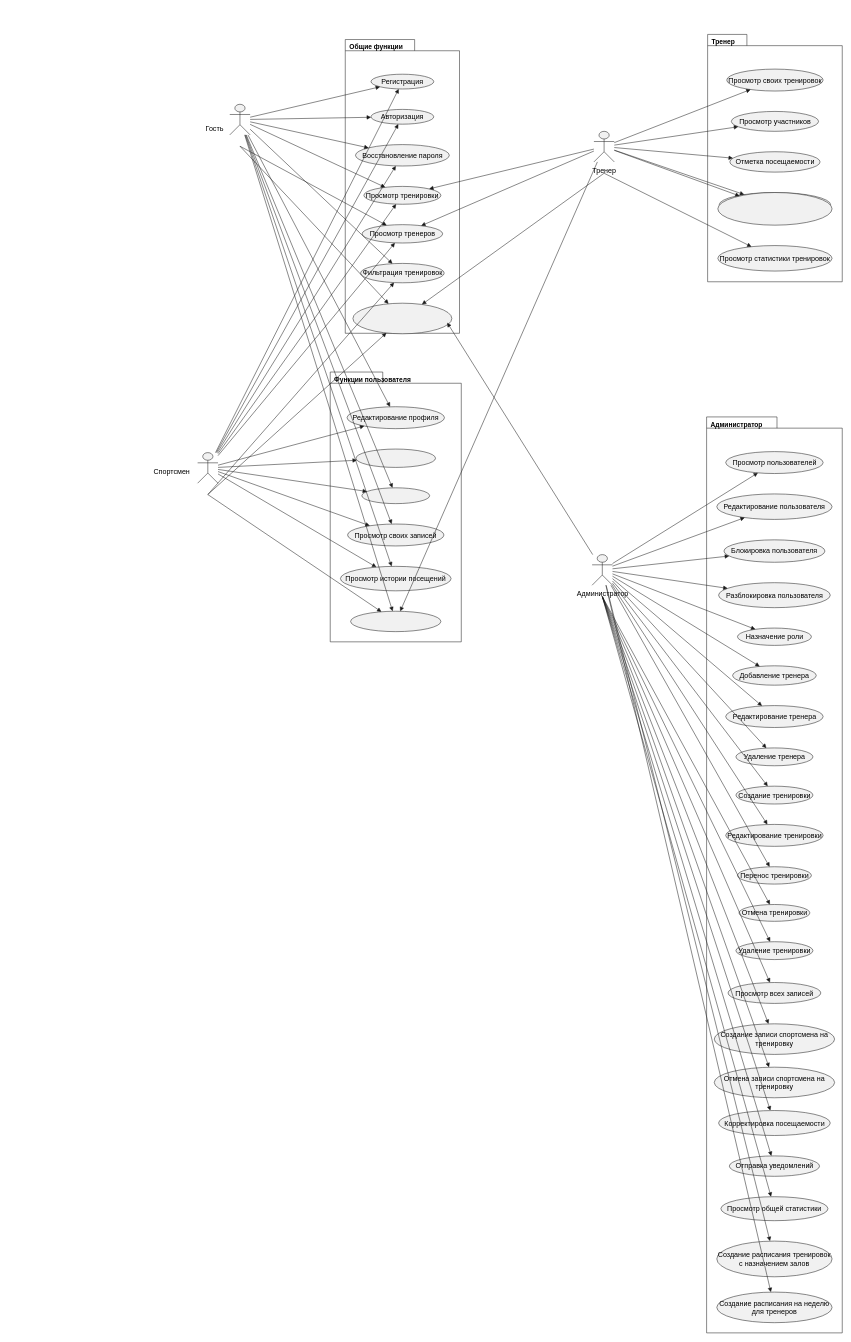
This 851x1342 diagram has some shape labels left out. The centre of each missing label's shape, as x and y in pixels:
Запись на тренировку: point (395, 458)
Отмена записи: point (395, 495)
Просмотр недельного расписания для тренеров: point (774, 208)
Просмотр общего расписания тренировок: point (402, 318)
Просмотр уведомлений: point (395, 621)
